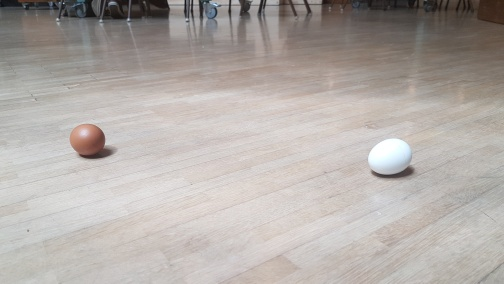egg: (365, 137, 413, 176), (69, 123, 107, 158)
